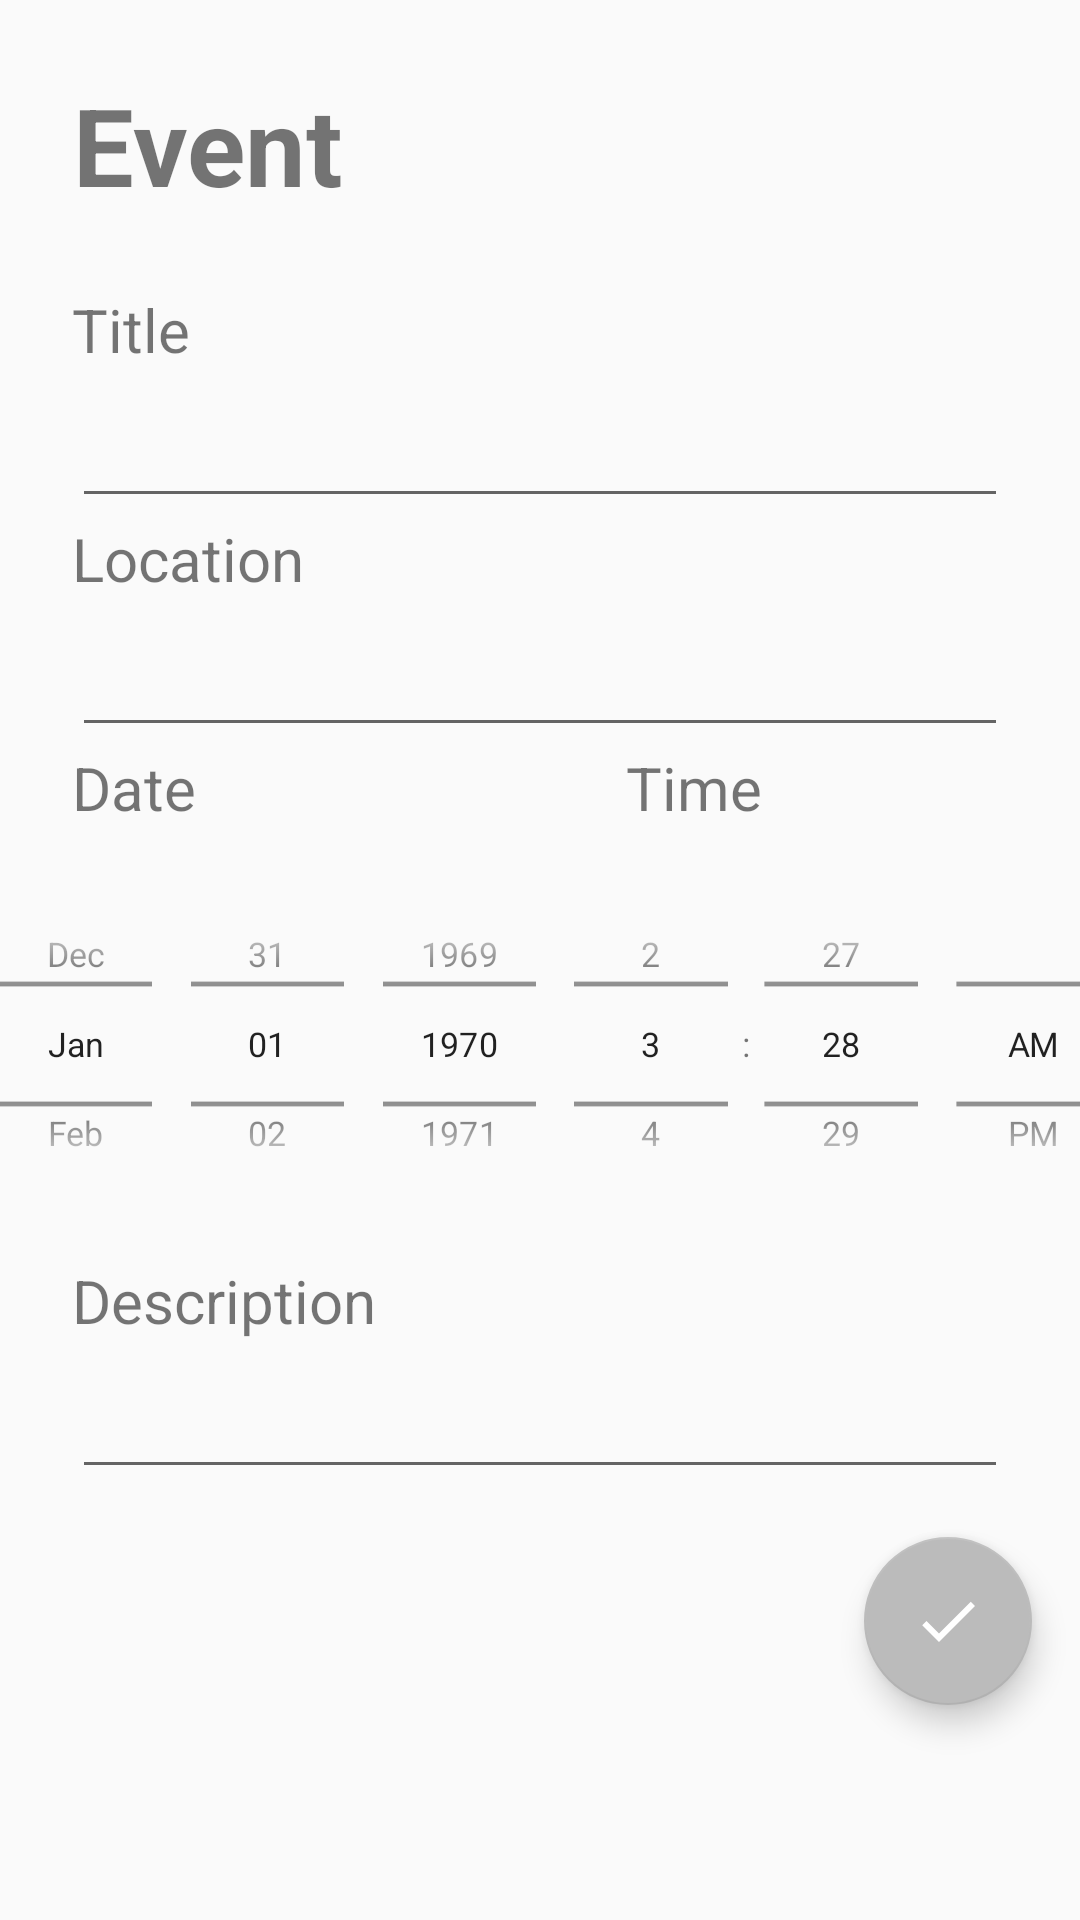

Icon click points for this 1080px x 1920px phone screenshot, format point (x, y):
Save Event: point (948, 1621)
